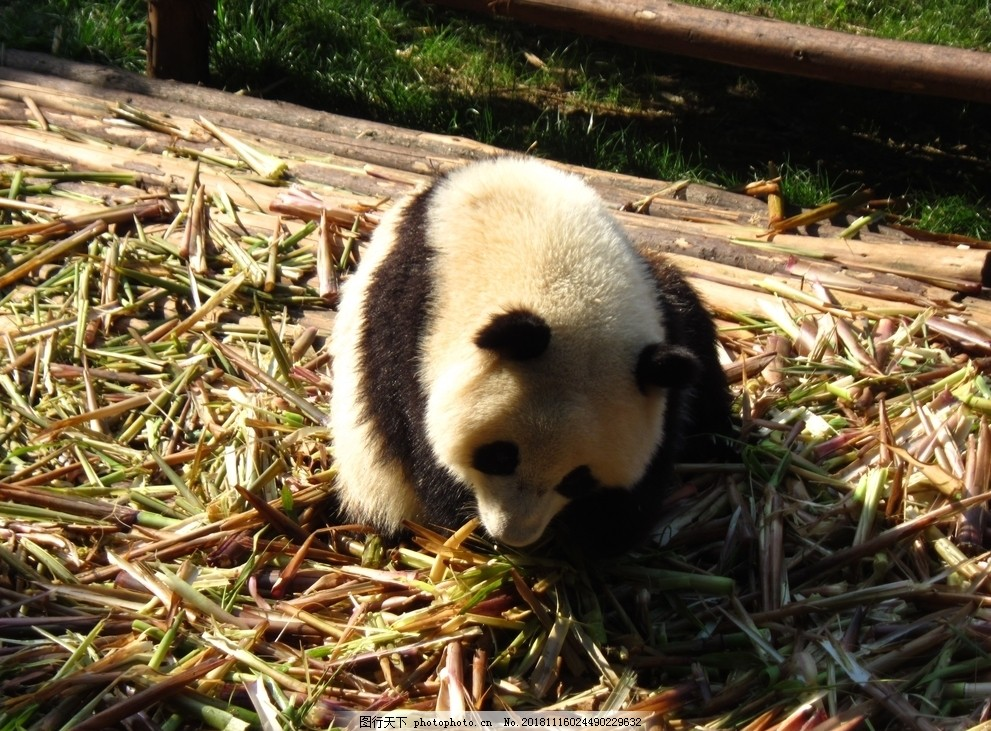panda: (299, 147, 744, 564)
